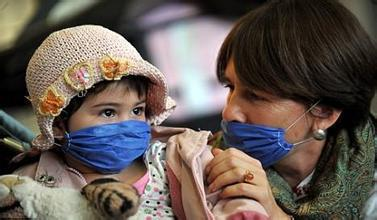OK: (74, 96, 152, 174)
WRONG: (219, 71, 314, 166)
